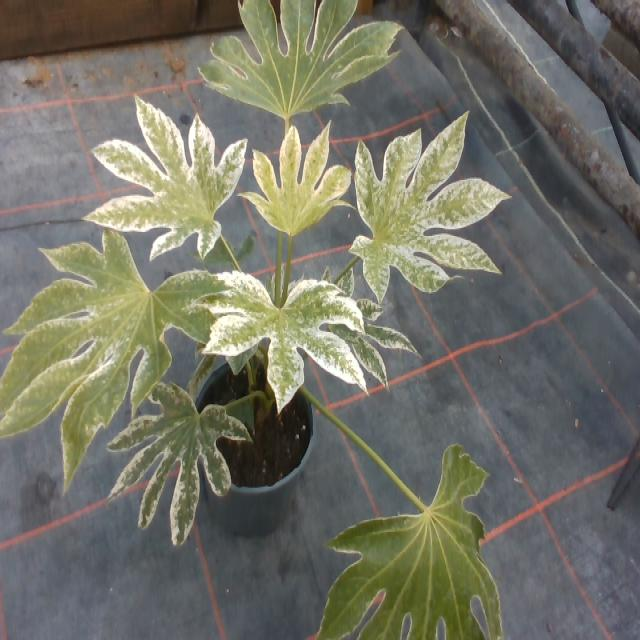Fatsia-japonica: (4, 223, 208, 462), (303, 445, 531, 640), (342, 108, 514, 310), (77, 92, 240, 254), (194, 261, 366, 414), (199, 0, 402, 123), (111, 359, 245, 541), (239, 119, 357, 240)
